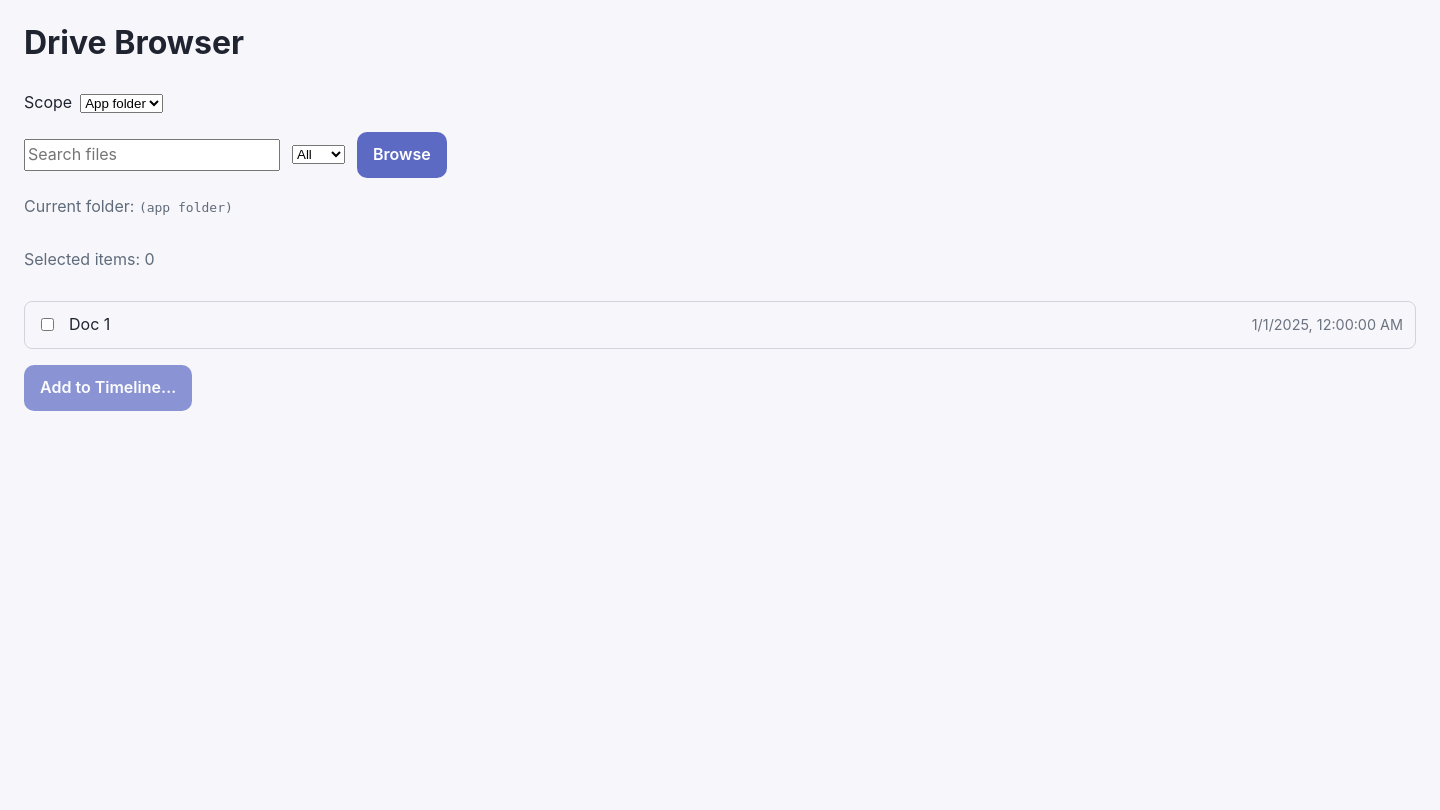
Test: DriveBrowserClient › create-from-drive-browse posts payload and shows success
expect the text "Doc 1" is shown: met, box [69, 314, 110, 334]
Step 1. Click the checkbox named "Select Doc 1" → (48, 325), box [41, 318, 54, 332]
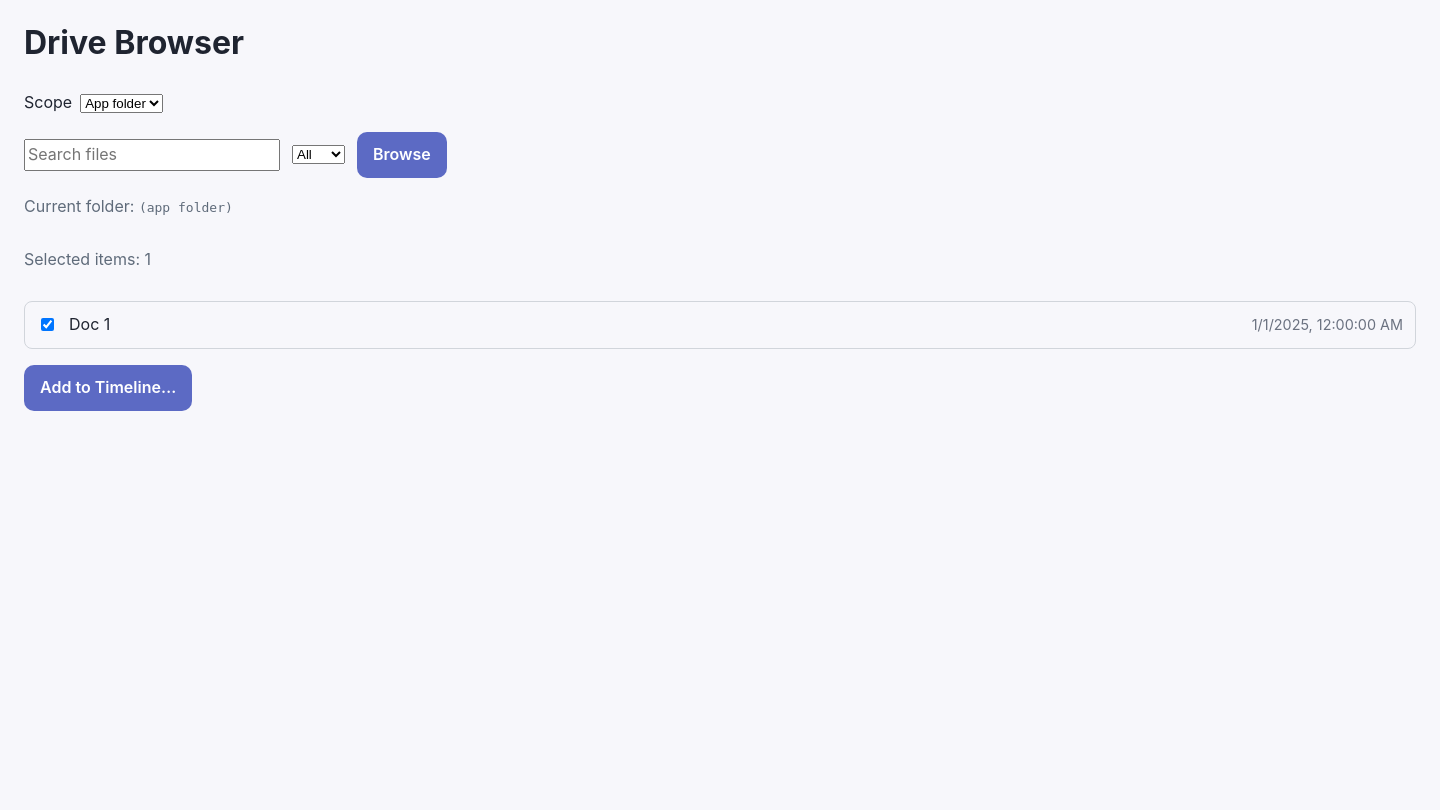
Step 2. Click the button "Add to Timeline…" → (108, 388), box [24, 365, 192, 411]
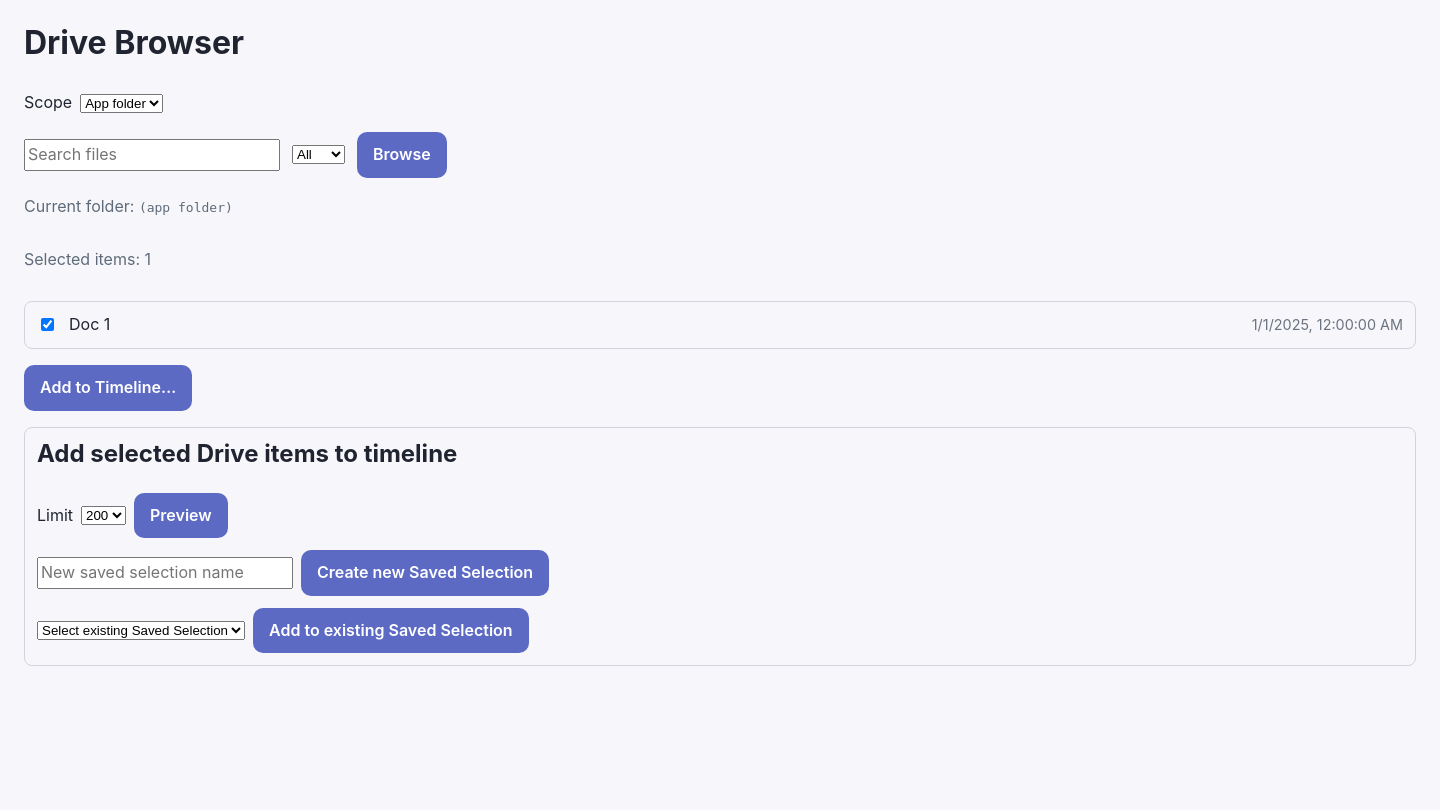
Step 3. Type "My Selection" into the field labelled "selection name" → (165, 573), box [37, 557, 293, 589]
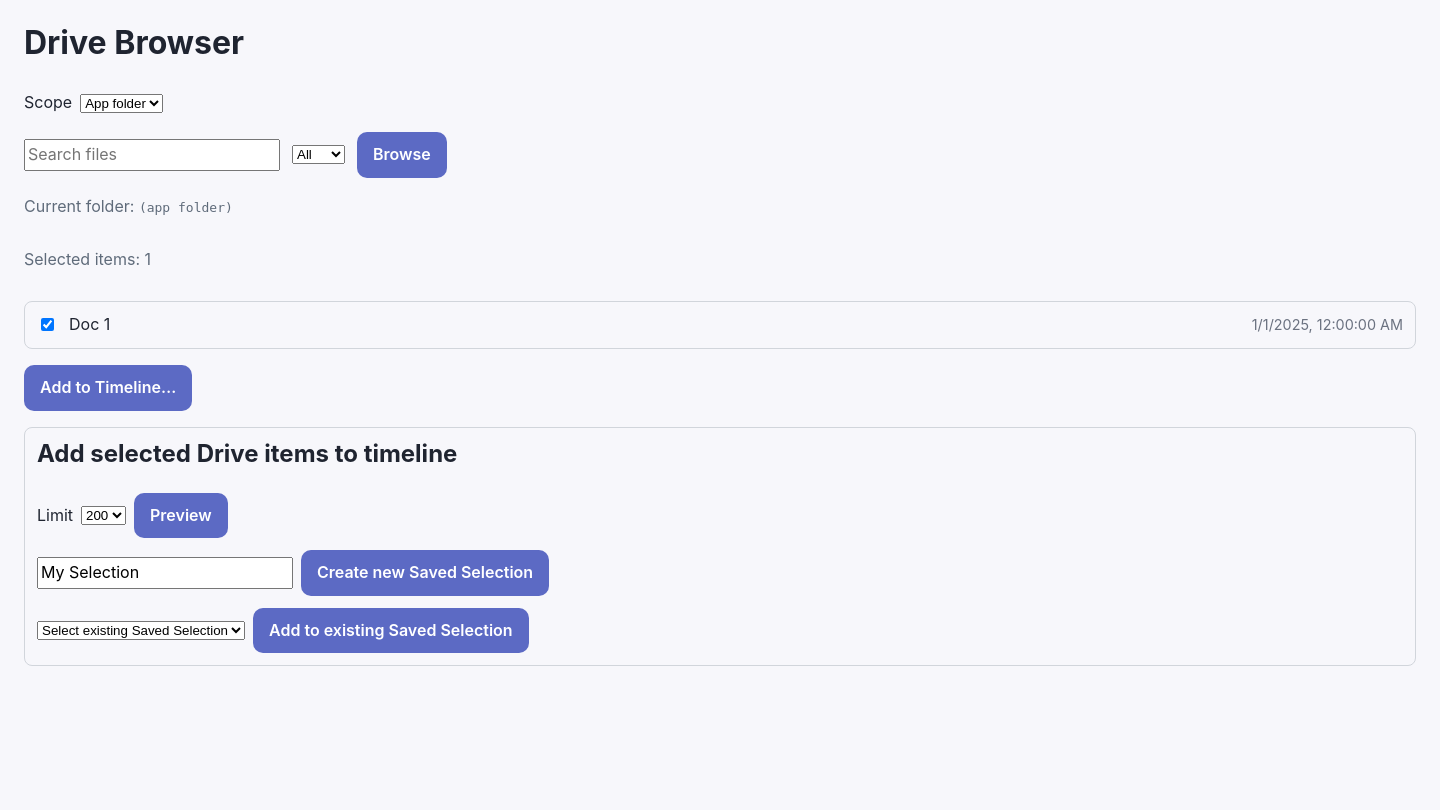
Step 4. Click the button "Create new Saved Selection" → (425, 573), box [301, 550, 549, 596]
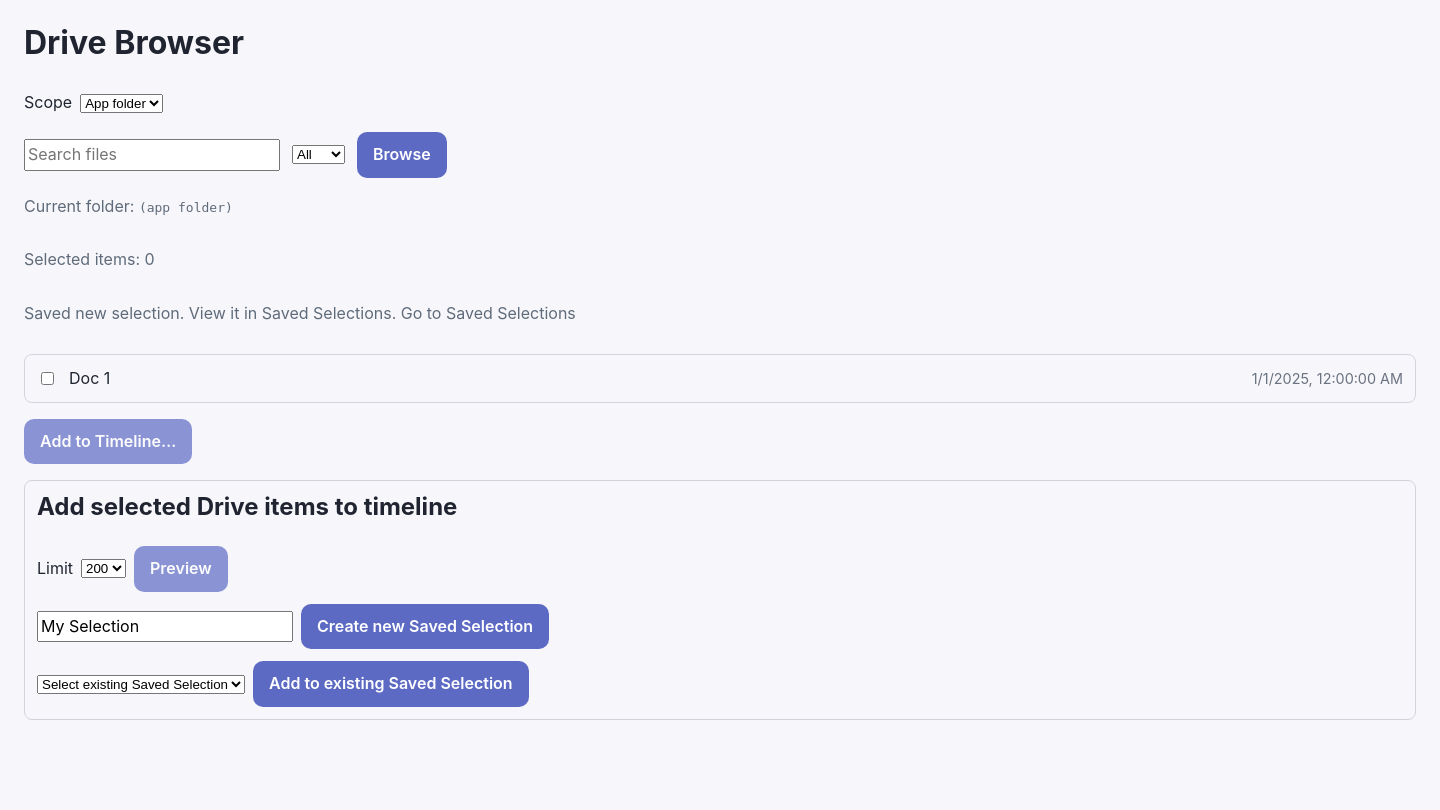
expect the text "Saved new selection" is shown: met, box [24, 303, 396, 323]
